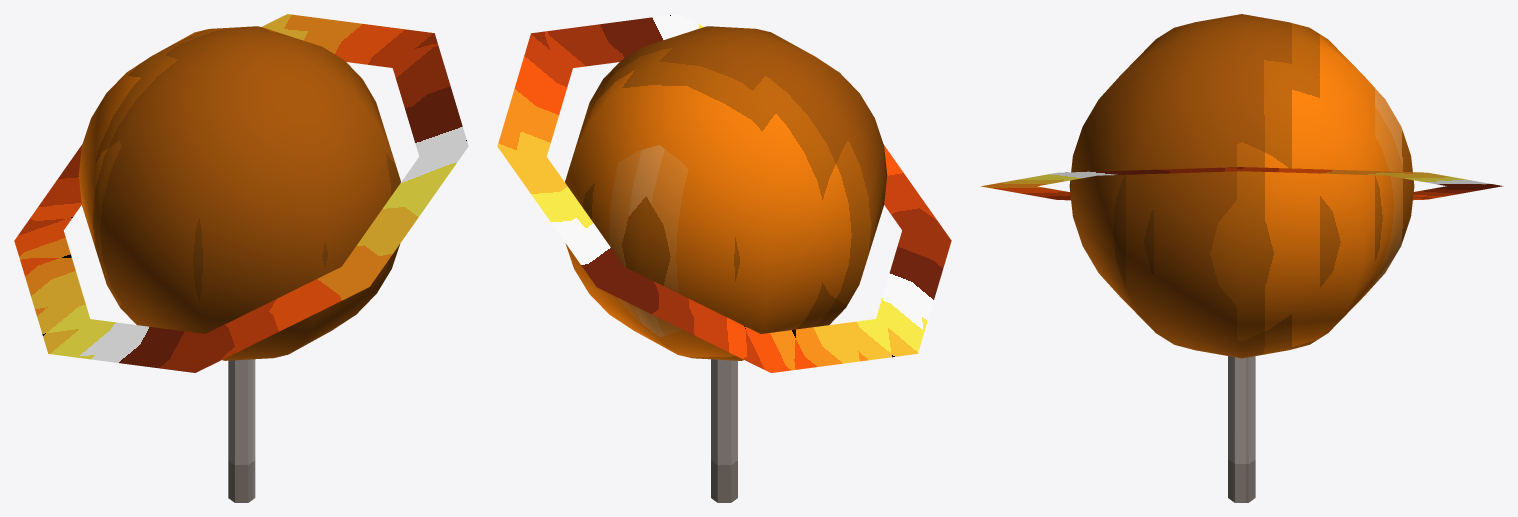
Rendered from 07_planetx04.gltf.
The picture shows the model from 3 angles, left to right: view 1: azimuth 30°, elevation 25°; view 2: azimuth 150°, elevation 25°; view 3: azimuth 270°, elevation 25°; orthographic projection. The views are drawn at different scales.
Parts seen in each view (by area): view 1: 07_planetx04; view 2: 07_planetx04; view 3: 07_planetx04.
Part boxes in pixels (<box>): 07_planetx04: <box>14,14,468,502</box>; 07_planetx04: <box>497,14,951,502</box>; 07_planetx04: <box>981,14,1503,502</box>.
Size of the model in its own units: 2.65 by 2.99 by 3.04.
2 materials, 2 textured.
